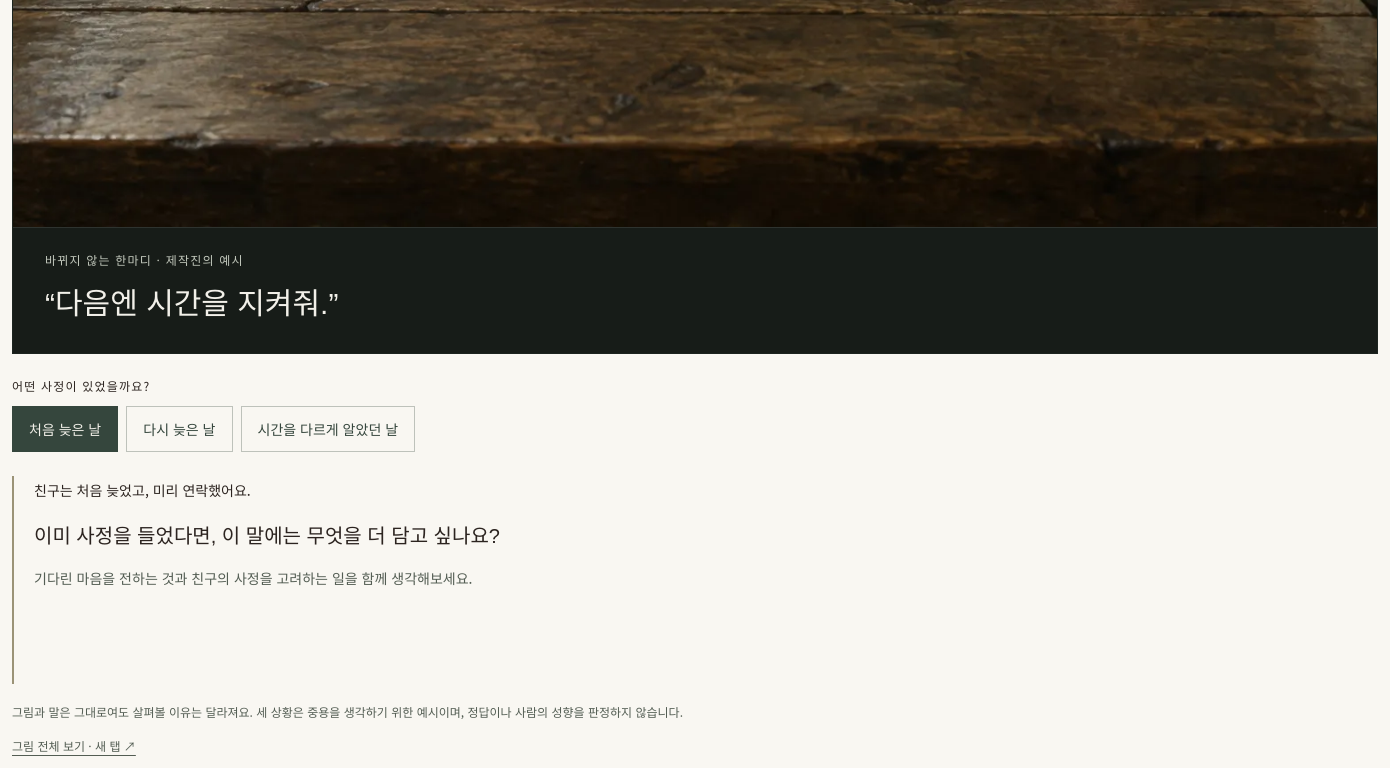
keeps the same utterance and image while context and reflection change
(page scrolled)
Click the button "다시 늦은 날" at (179, 429), box top-left (126, 406), bottom-right (233, 452)
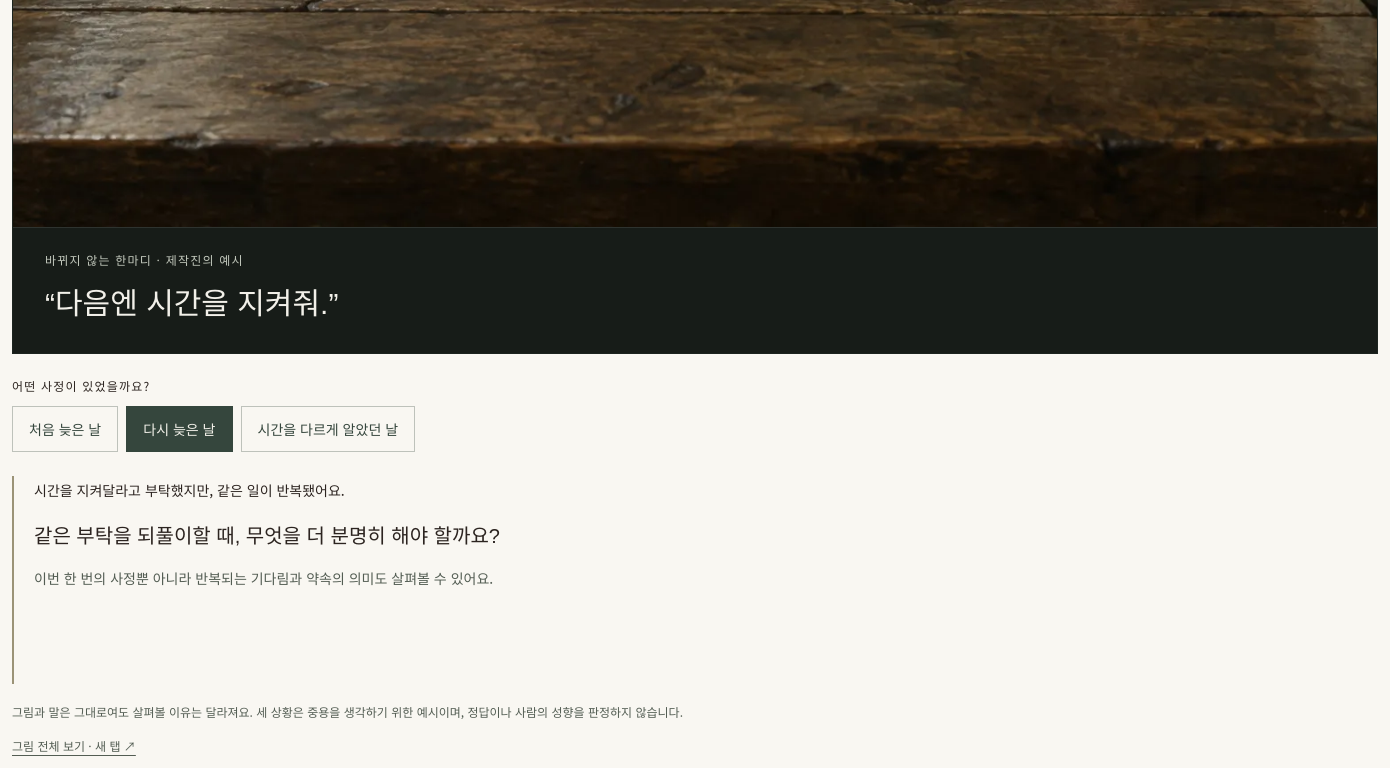
Expected: the text "“다음엔 시간을 지켜줘.”" is shown, top-left (45, 287), bottom-right (338, 320)
Expected: the message shows "같은 일이 반복", top-left (34, 480), bottom-right (345, 500)
